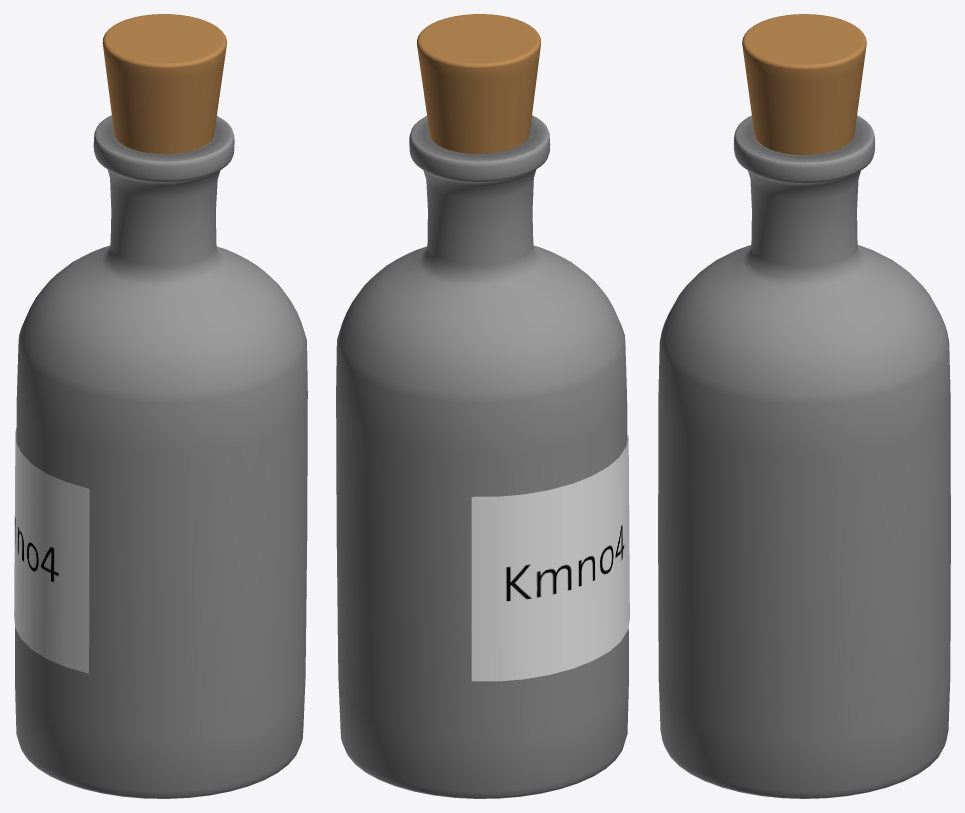
The model's file is Kmno4.fbx.
3 views of the same model, side by side, from view 1: azimuth 30°, elevation 25°; view 2: azimuth 150°, elevation 25°; view 3: azimuth 270°, elevation 25° (orthographic).
Parts seen in each view (by area): view 1: Bttle001_Bttle_0.132; view 2: Bttle001_Bttle_0.132; view 3: Bttle001_Bttle_0.132.
Part boxes in pixels (x1,y1,x2,y2): Bttle001_Bttle_0.132: [14, 14, 307, 798]; Bttle001_Bttle_0.132: [336, 14, 629, 798]; Bttle001_Bttle_0.132: [658, 14, 950, 798].
Size of the model in its own units: 11.44 by 30.04 by 11.35.
Materials: 5 (2 with a texture image).
